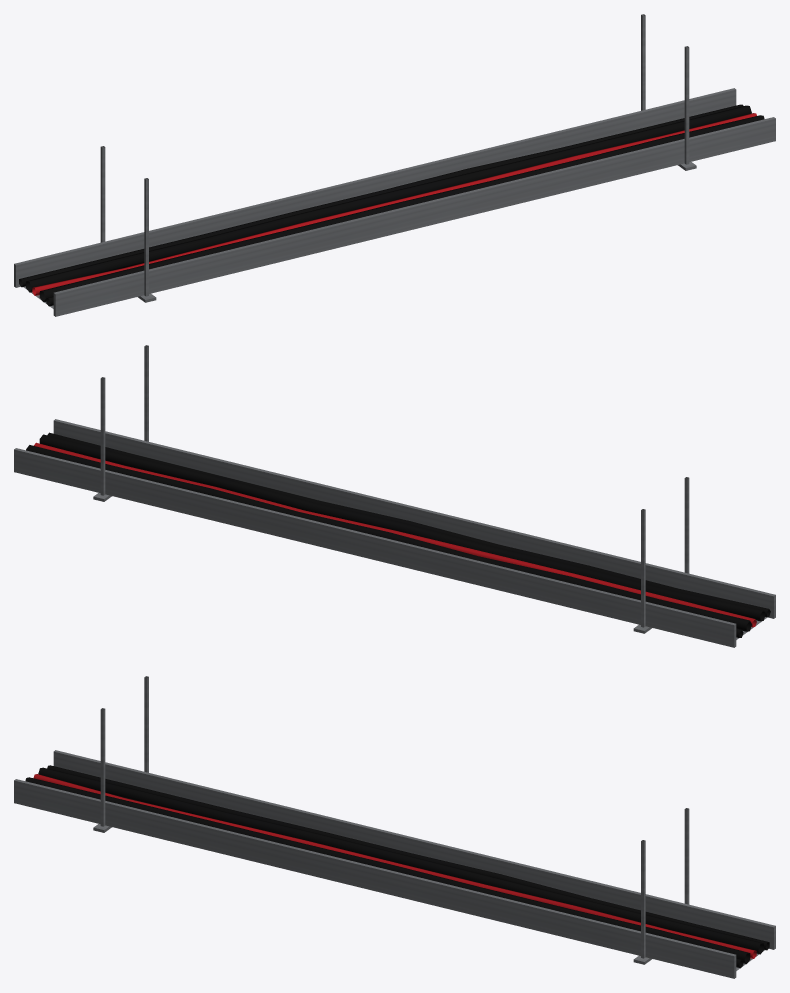
The model's file is SM_LFD_CableTray_4m.fbx.
The picture shows the model from 3 angles, top to bottom: view 1: azimuth 30°, elevation 25°; view 2: azimuth 150°, elevation 25°; view 3: azimuth 330°, elevation 25°; orthographic projection.
Visible parts, largest first — view 1: SM_LFD_CableTray_4m_LOD0; view 2: SM_LFD_CableTray_4m_LOD0; view 3: SM_LFD_CableTray_4m_LOD0.
Part boxes in pixels (x1=…): SM_LFD_CableTray_4m_LOD0: x1=14, y1=14, x2=775, y2=316; SM_LFD_CableTray_4m_LOD0: x1=14, y1=345, x2=775, y2=647; SM_LFD_CableTray_4m_LOD0: x1=14, y1=676, x2=775, y2=978.
Size of what is drawn, in the model's own units: 4 by 0.635 by 0.5.
